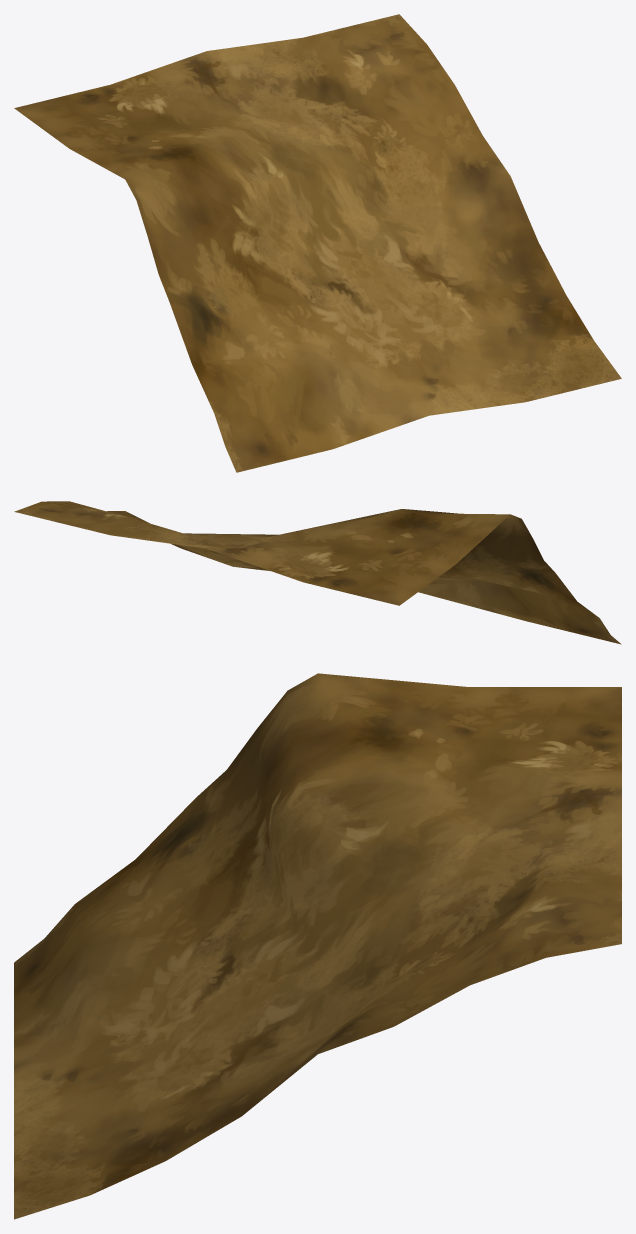
File: Slope_Level_001.fbx
3 views of the same model, one above another, from view 1: azimuth 30°, elevation 25°; view 2: azimuth 150°, elevation 25°; view 3: azimuth 270°, elevation 25° (orthographic). The views are drawn at different scales.
Parts seen in each view (by area): view 1: Slope_Level_001; view 2: Slope_Level_001; view 3: Slope_Level_001.
Boxes of the visible parts, <box> form: Slope_Level_001: <box>14,14,621,472</box>; Slope_Level_001: <box>14,501,621,644</box>; Slope_Level_001: <box>14,673,621,1219</box>.
Size of the model in its own units: 10 by 5.25 by 10.
Materials: 1 (1 with a texture image).
